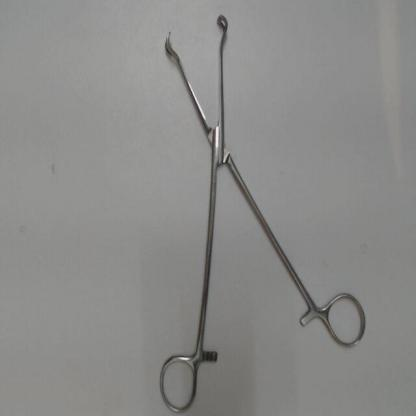8 Babcock Tissue Forceps: (151, 8, 375, 416)
